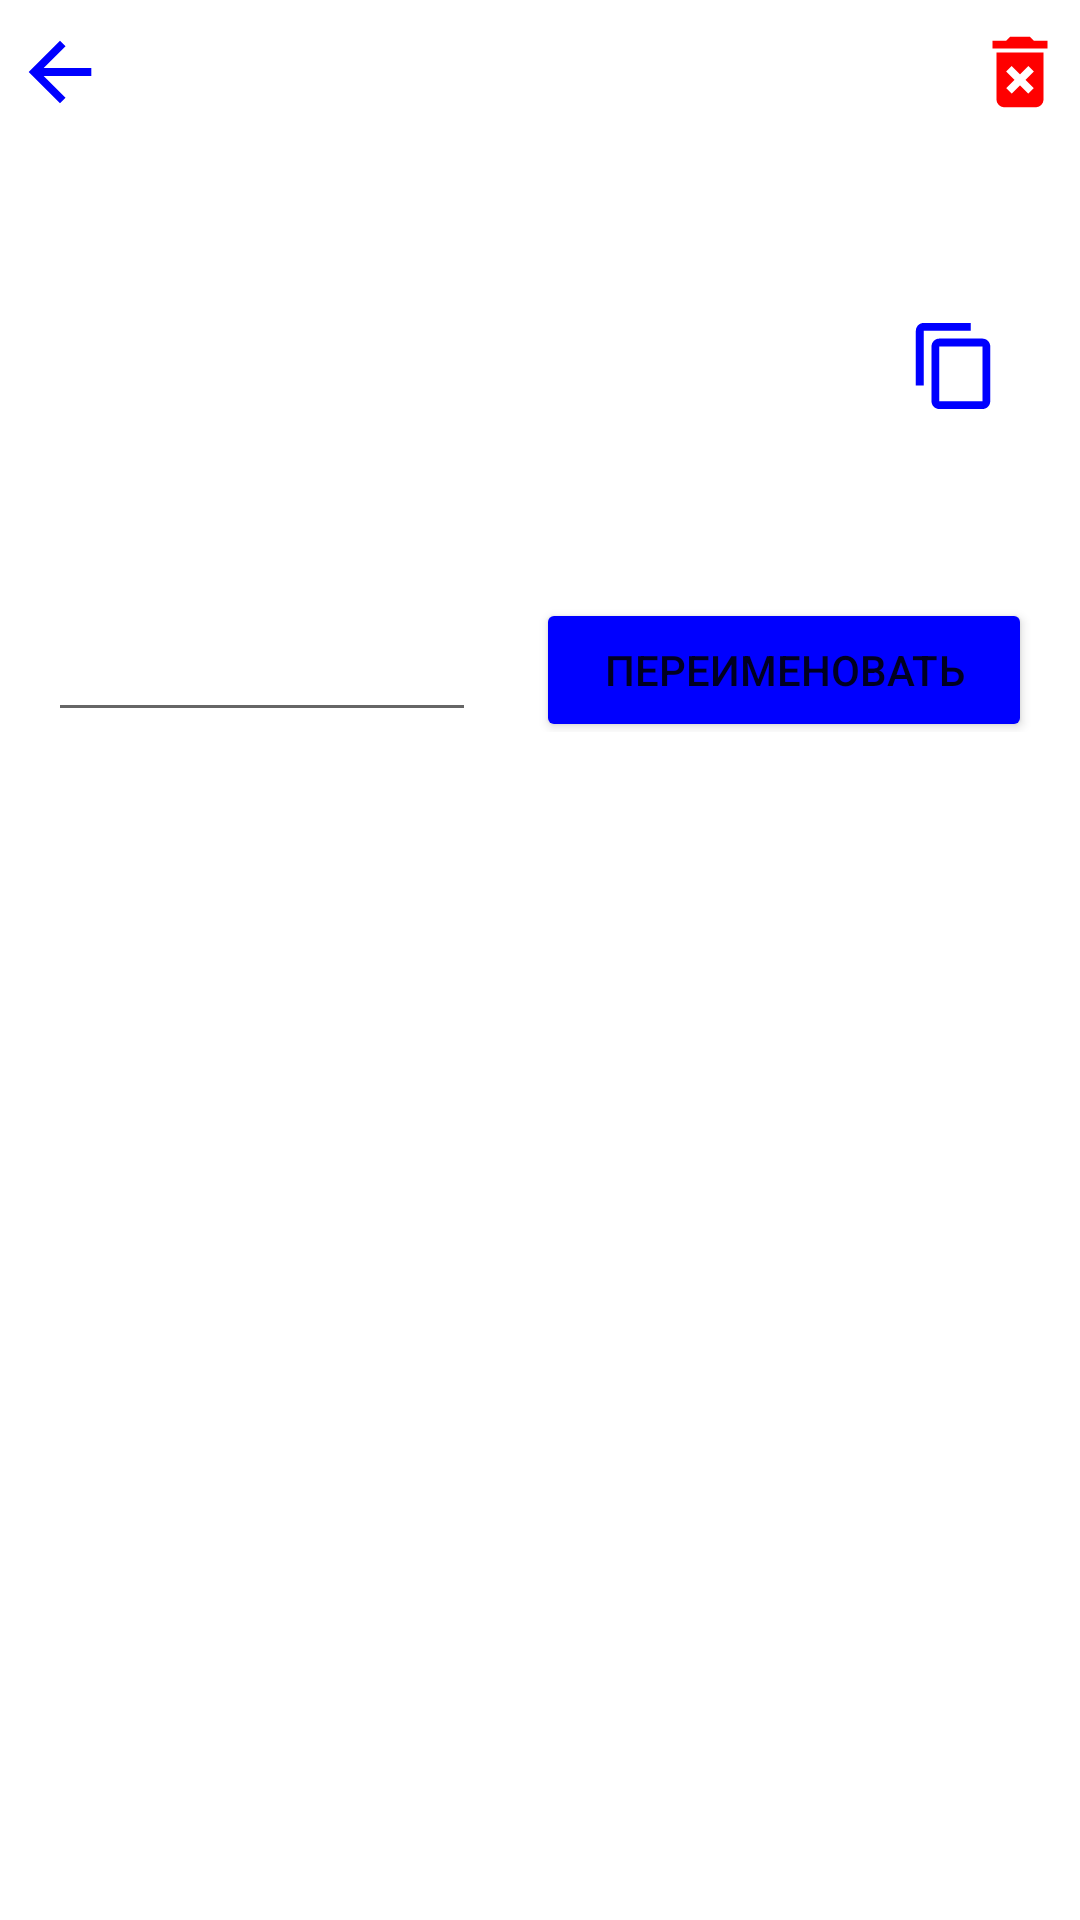

Screen size 1080px×1920px. Icon name, then its box in pixels as region(x1, y1, x2, y2):
delete: region(992, 36, 1048, 108)
Назад: region(29, 41, 92, 103)
